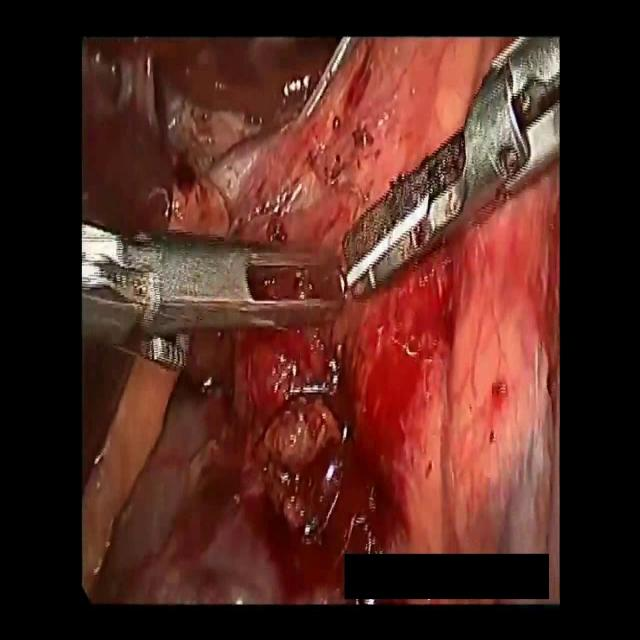surgical-area: (82, 38, 560, 604)
surgical-tool: (342, 32, 559, 300), (82, 222, 344, 367)
